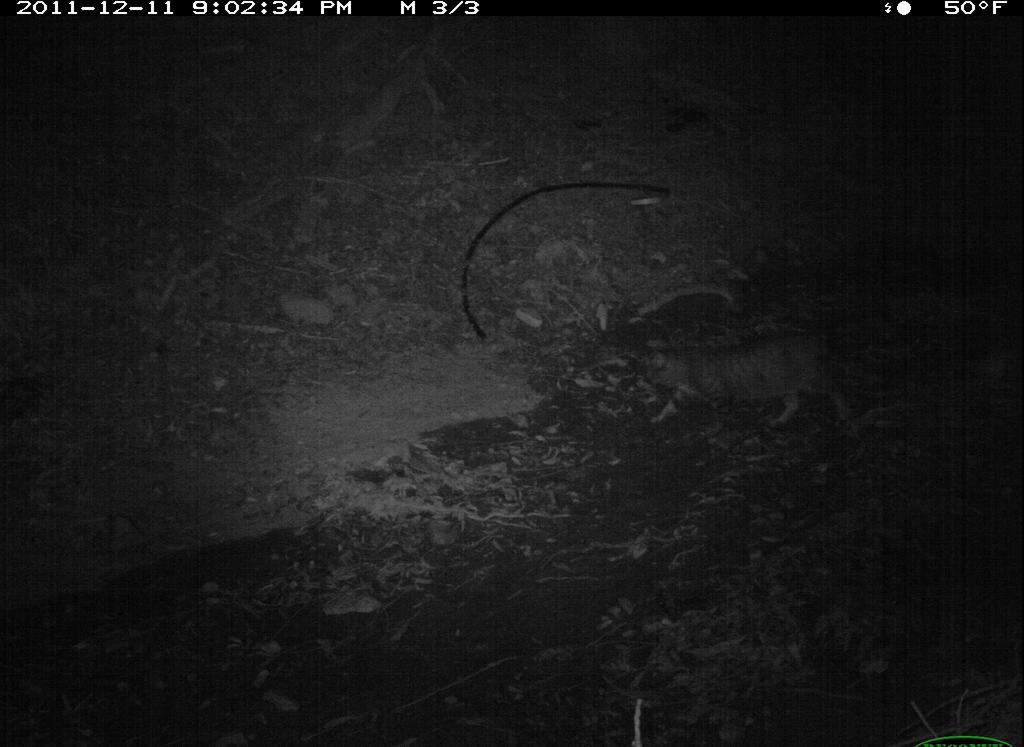cat: (629, 323, 875, 452)
